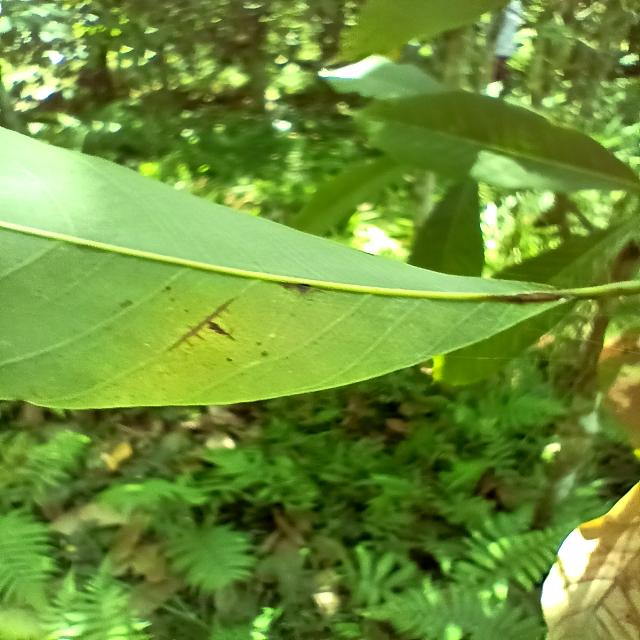Corynespora: (167, 297, 237, 353)
